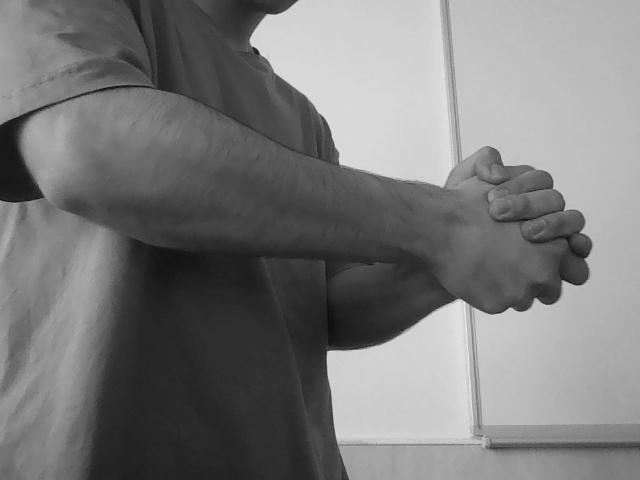friend: (403, 141, 596, 315)
